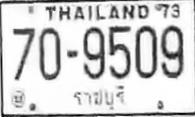0: (134, 25, 157, 78), (38, 27, 61, 80)
5: (108, 25, 130, 78)
7: (12, 26, 34, 80)
9: (160, 24, 183, 78), (82, 26, 104, 78)
RBR: (68, 83, 128, 113)
